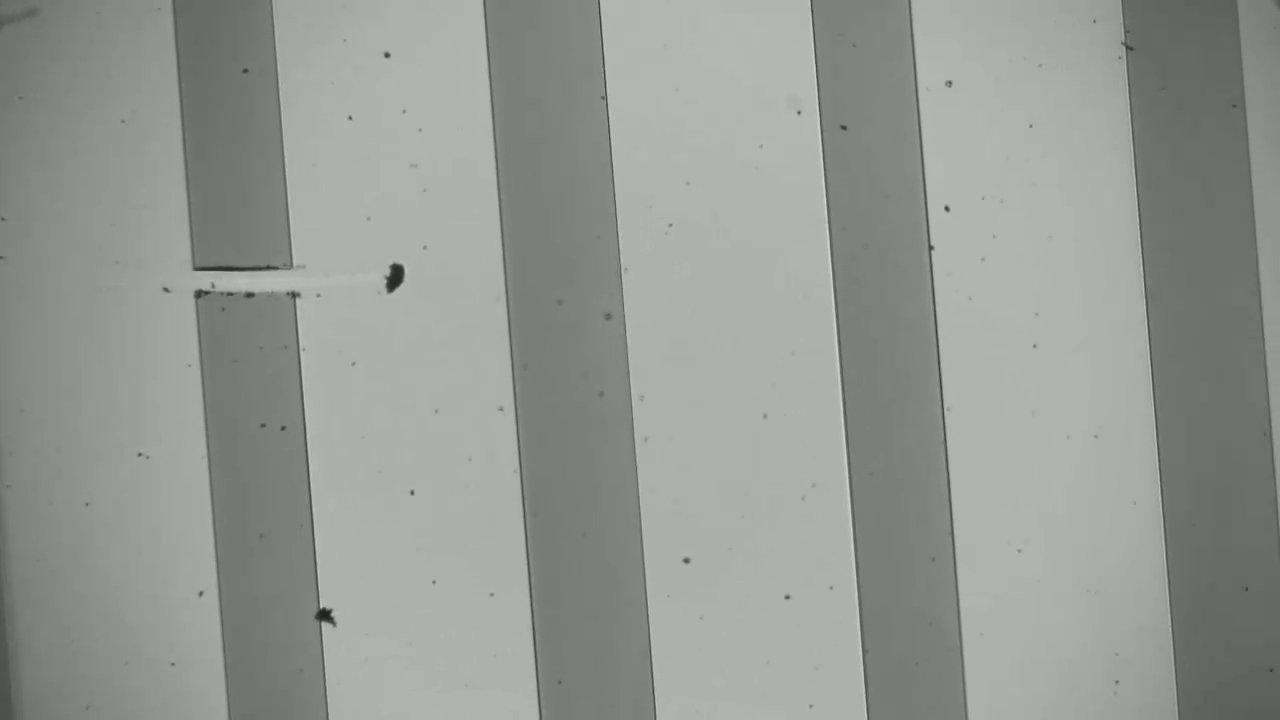Short_circuit: (159, 243, 332, 320)
